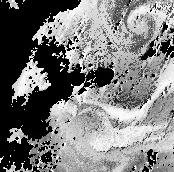CE: (125, 7, 163, 40)
